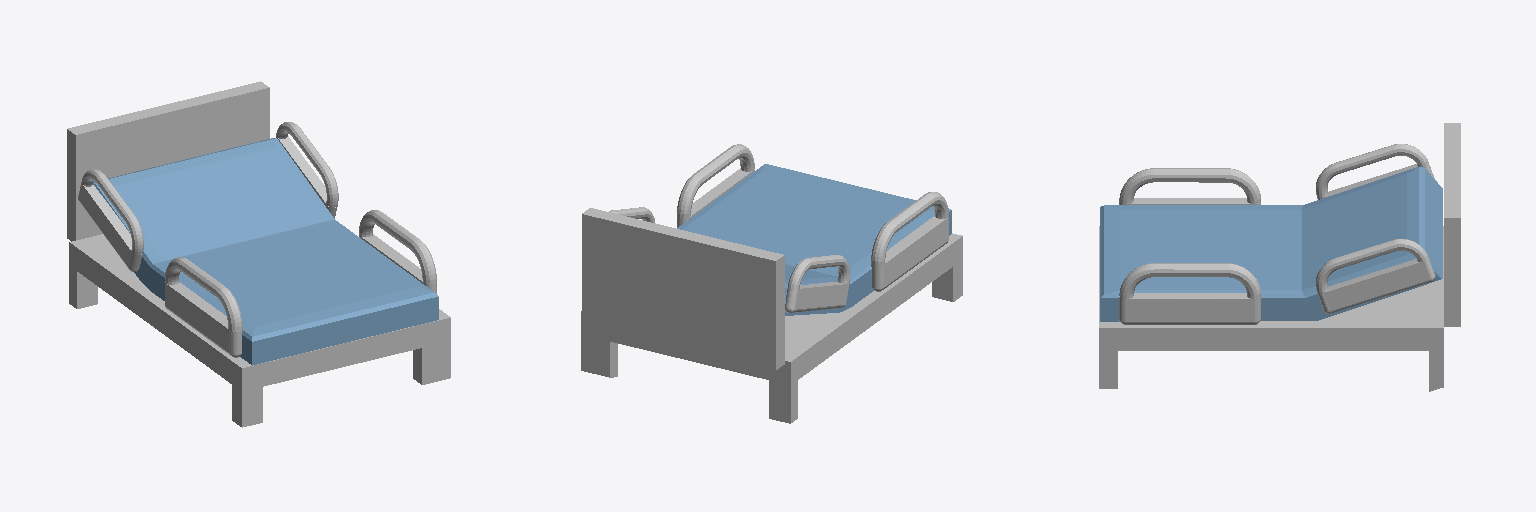
File: CompleteBed.obj
3 renders of one model, left to right at view 1: azimuth 30°, elevation 25°; view 2: azimuth 150°, elevation 25°; view 3: azimuth 270°, elevation 25°, orthographic.
Parts seen in each view (by area): view 1: Cube_Cube.001, Cube.001_Cube, Torus; view 2: Cube.001_Cube, Cube_Cube.001, Torus; view 3: Cube_Cube.001, Cube.001_Cube, Torus.
Boxes of the visible parts, x1=… form: Cube_Cube.001: x1=93, y1=138, x2=438, y2=365; Cube.001_Cube: x1=67, y1=81, x2=450, y2=427; Torus: x1=78, y1=122, x2=436, y2=357; Cube.001_Cube: x1=581, y1=208, x2=962, y2=423; Cube_Cube.001: x1=677, y1=164, x2=951, y2=315; Torus: x1=609, y1=144, x2=948, y2=312; Cube_Cube.001: x1=1100, y1=167, x2=1442, y2=321; Cube.001_Cube: x1=1099, y1=123, x2=1460, y2=391; Torus: x1=1119, y1=144, x2=1435, y2=324.
Size of the model in its own units: 2.8 by 2.18 by 4.2.